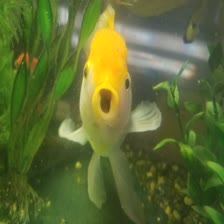Cuezo: (58, 4, 158, 211)
